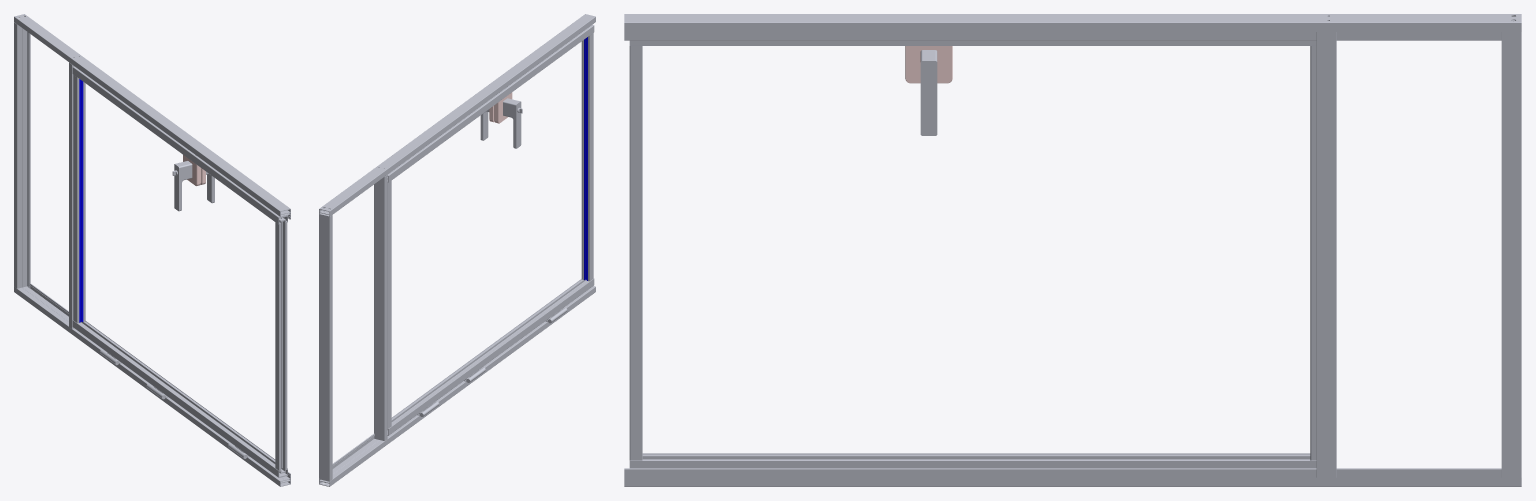
File: fuone-slidingdoor-model.glb
The picture shows the model from 3 angles, left to right: view 1: azimuth 30°, elevation 25°; view 2: azimuth 150°, elevation 25°; view 3: azimuth 270°, elevation 25°; orthographic projection. The views are drawn at different scales.
Parts seen in each view (by area): view 1: world; view 2: world; view 3: world.
Part boxes in pixels (<box>): world: <box>14,14,290,486</box>; world: <box>319,14,595,486</box>; world: <box>624,14,1521,486</box>.
Bounding box in the file's own units: 147 × 979 × 1714.
